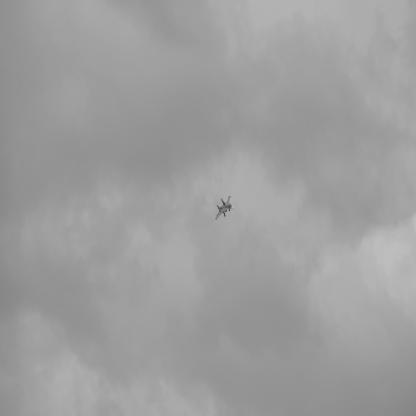Su34: (216, 197, 236, 221)
